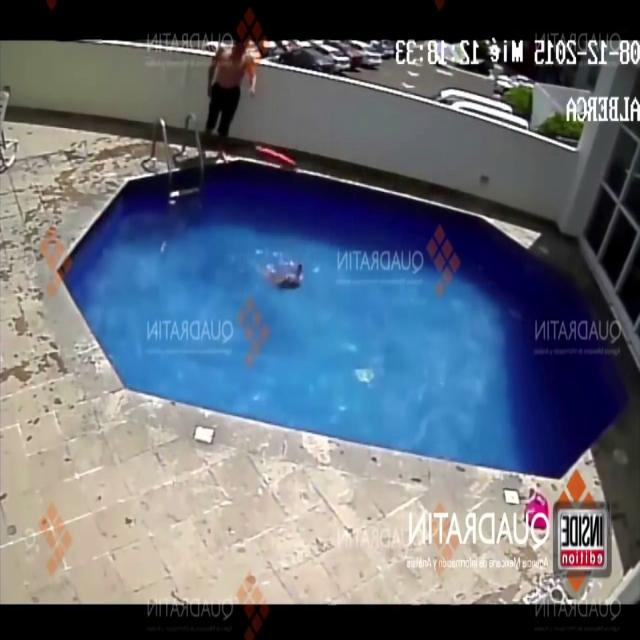adult: (196, 28, 258, 145)
child: (266, 259, 308, 289)
